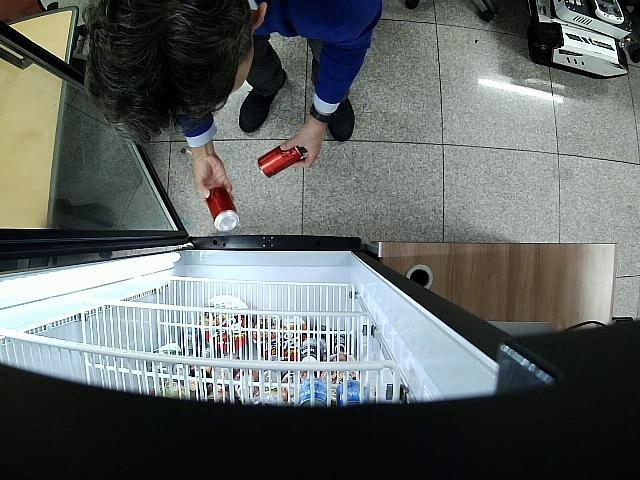11_cocaColaZero: (256, 145, 302, 178), (207, 186, 239, 233)
